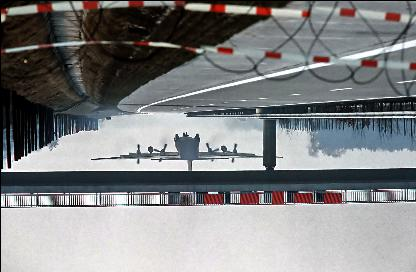Be200: (89, 132, 281, 194)
